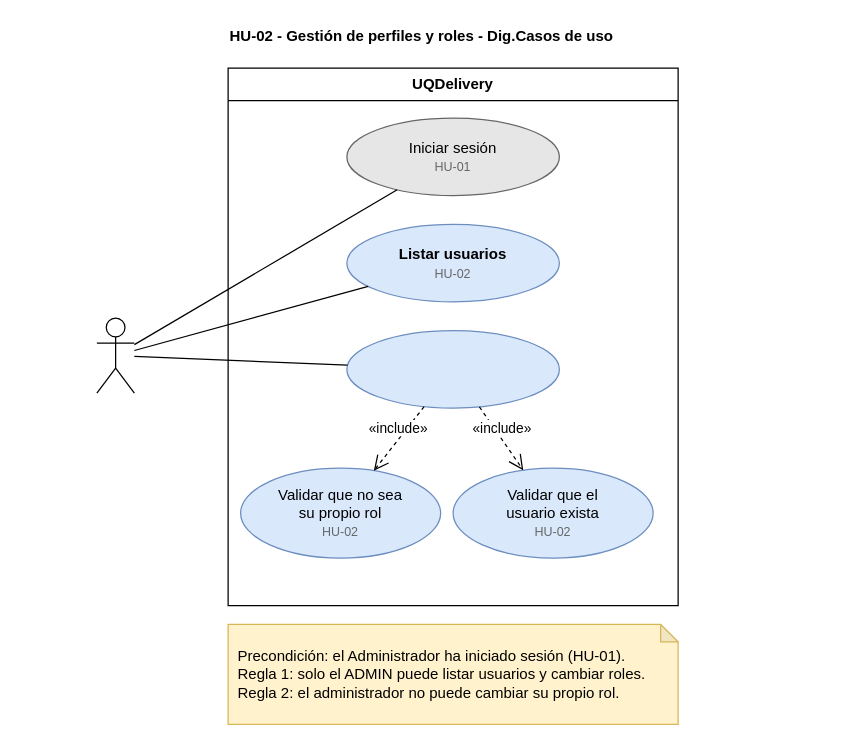
Image size: 843x746. Some labels were removed from this diagram. Here are the shapes that lost their labels. From the top down, the centre of each, then its label:
At [115,355]: "Administrador".
At [452,368]: "Cambiar el rol de un usuario HU-02".
